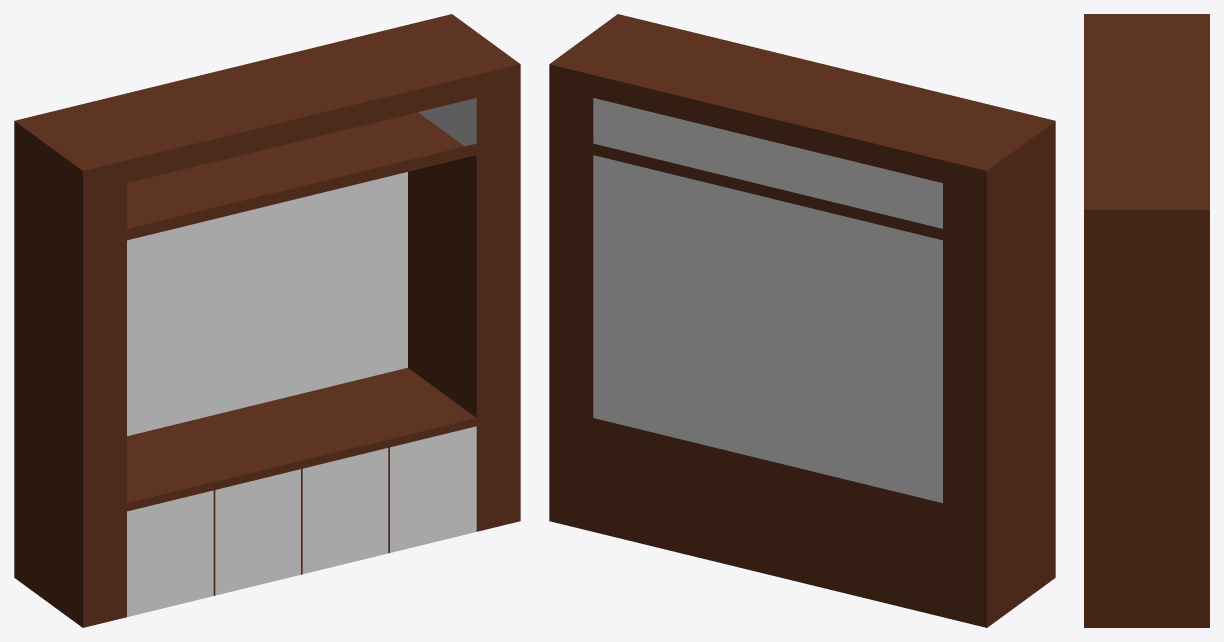
Rendered from Cupboard Assessment.fbx.
The picture shows the model from 3 angles, left to right: view 1: azimuth 30°, elevation 25°; view 2: azimuth 150°, elevation 25°; view 3: azimuth 270°, elevation 25°; orthographic projection. The views are drawn at different scales.
Visible parts, largest first — view 1: Cube; view 2: Cube; view 3: Cube.
Boxes of the visible parts, <box> form: Cube: <box>14,14,520,627</box>; Cube: <box>549,14,1055,627</box>; Cube: <box>1084,14,1209,627</box>.
Bounding box in the file's own units: 93.2 × 92.95 × 25.32.
